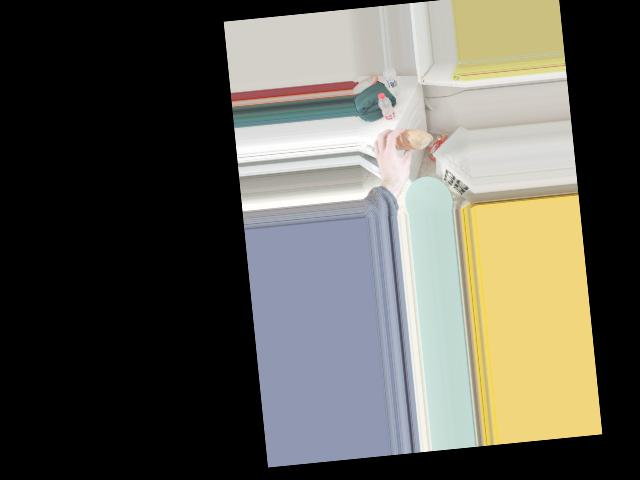sweet_potato: (391, 127, 425, 151)
